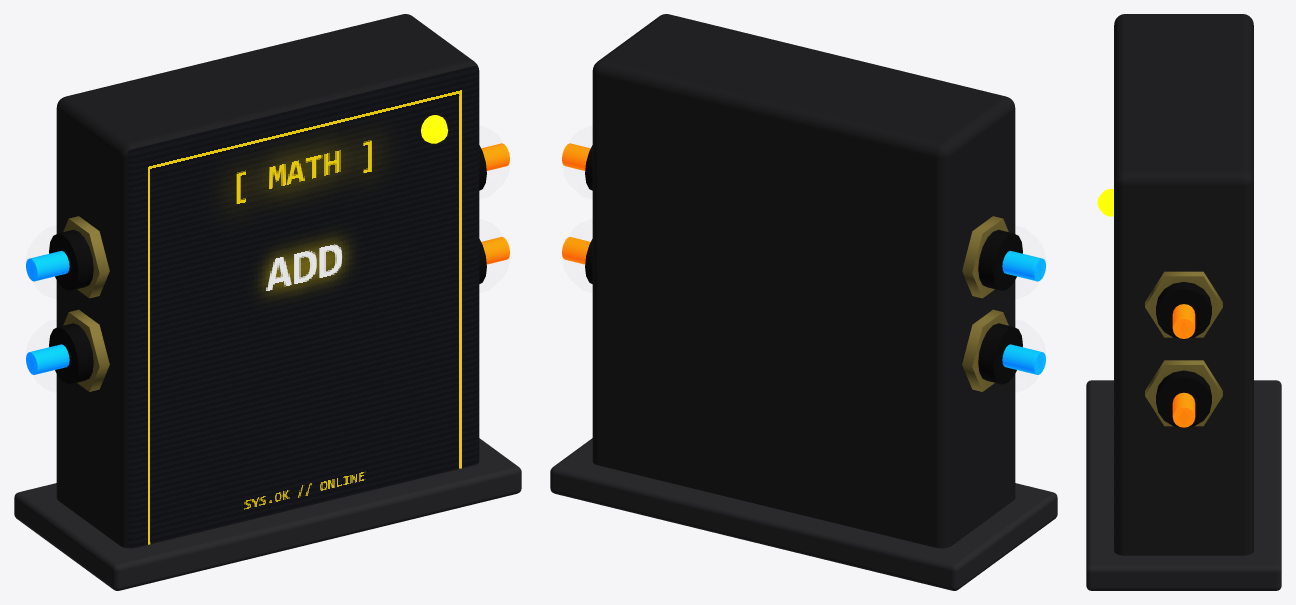
File: math_add.glb
3 views of the same model, side by side, from view 1: azimuth 30°, elevation 25°; view 2: azimuth 150°, elevation 25°; view 3: azimuth 270°, elevation 25° (orthographic). The views are drawn at different scales.
Parts seen in each view (by area): view 1: chassis, bracket, socket (×2), hex_nut (×2), pin (×2); view 2: chassis, bracket, socket (×2), hex_nut (×2), pin (×2); view 3: chassis, bracket, socket (×2), hex_nut (×2), pin (×2), status_led.
Part boxes in pixels (<box>): chassis: <box>56,14,479,548</box>; bracket: <box>14,438,521,590</box>; socket (×2): <box>49,229,93,384</box>; hex_nut (×2): <box>63,216,109,391</box>; pin (×2): <box>26,251,69,374</box>; chassis: <box>592,14,1015,548</box>; bracket: <box>550,438,1057,590</box>; socket (×2): <box>978,229,1022,384</box>; hex_nut (×2): <box>962,216,1008,391</box>; pin (×2): <box>1002,251,1045,374</box>; chassis: <box>1114,14,1253,555</box>; bracket: <box>1086,380,1281,590</box>; socket (×2): <box>1156,282,1211,427</box>; hex_nut (×2): <box>1145,271,1222,426</box>; pin (×2): <box>1172,304,1195,427</box>; status_led: <box>1097,188,1113,216</box>.
Size of the model in its own units: 1.86 by 1.6 by 0.7.
Materials: 12 (1 with a texture image).
